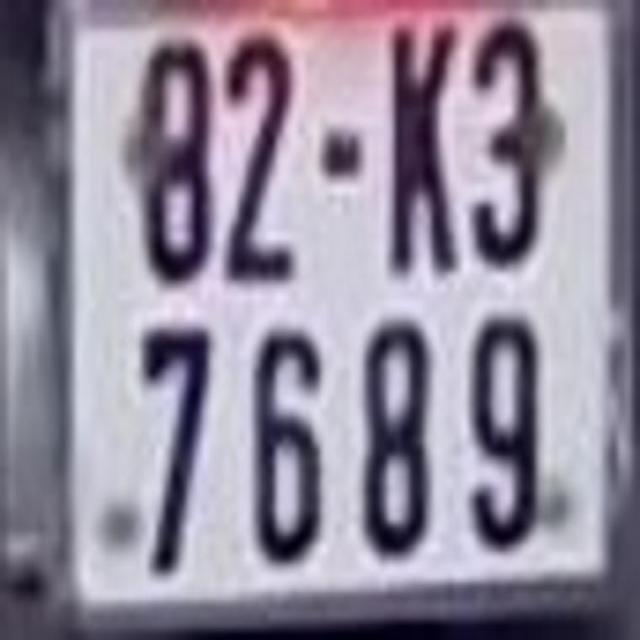2: (217, 26, 298, 293)
3: (466, 16, 545, 282)
6: (250, 320, 325, 567)
7: (136, 320, 212, 582)
8: (132, 42, 216, 296), (356, 308, 438, 564)
9: (464, 309, 542, 556)
K: (384, 20, 462, 284)
